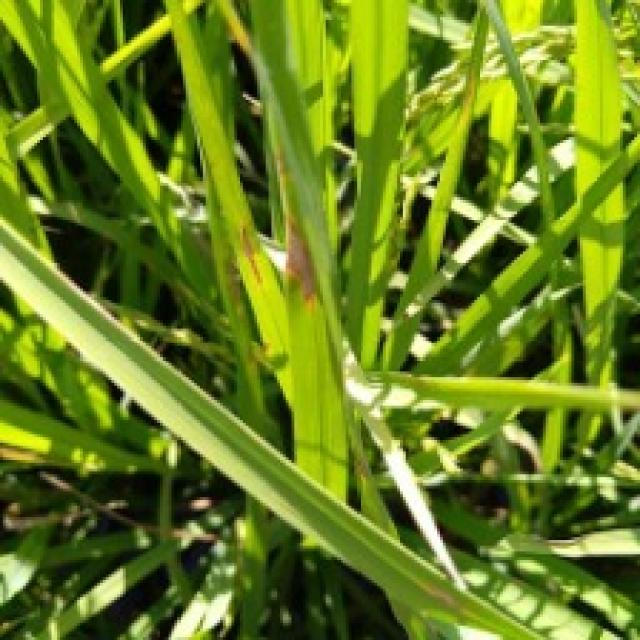Unhealthy: (285, 198, 315, 306), (240, 226, 260, 285)
